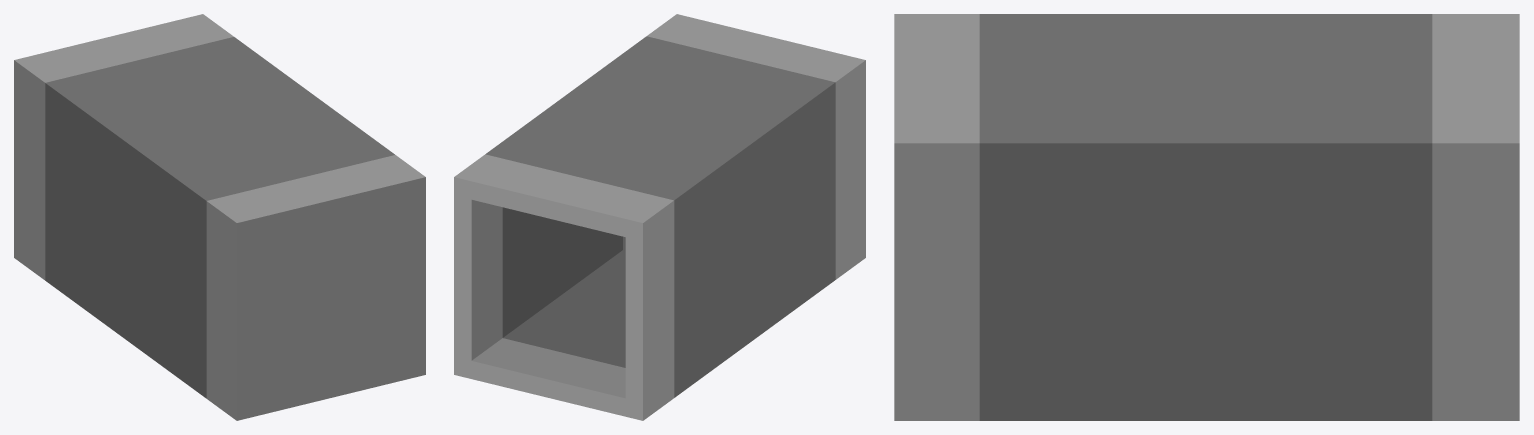
Rendered from RubbishBin2.glb.
3 views of the same model, side by side, from view 1: azimuth 30°, elevation 25°; view 2: azimuth 150°, elevation 25°; view 3: azimuth 270°, elevation 25° (orthographic). The views are drawn at different scales.
Visible parts, largest first — view 1: SO_RubbishBin_02; view 2: SO_RubbishBin_02; view 3: SO_RubbishBin_02.
Boxes of the visible parts, x1=… form: SO_RubbishBin_02: x1=14, y1=14, x2=425, y2=420; SO_RubbishBin_02: x1=454, y1=14, x2=865, y2=420; SO_RubbishBin_02: x1=894, y1=14, x2=1519, y2=420.
Bounding box in the file's own units: 0.3787 × 0.3787 × 0.7732.
1 material, 1 textured.
